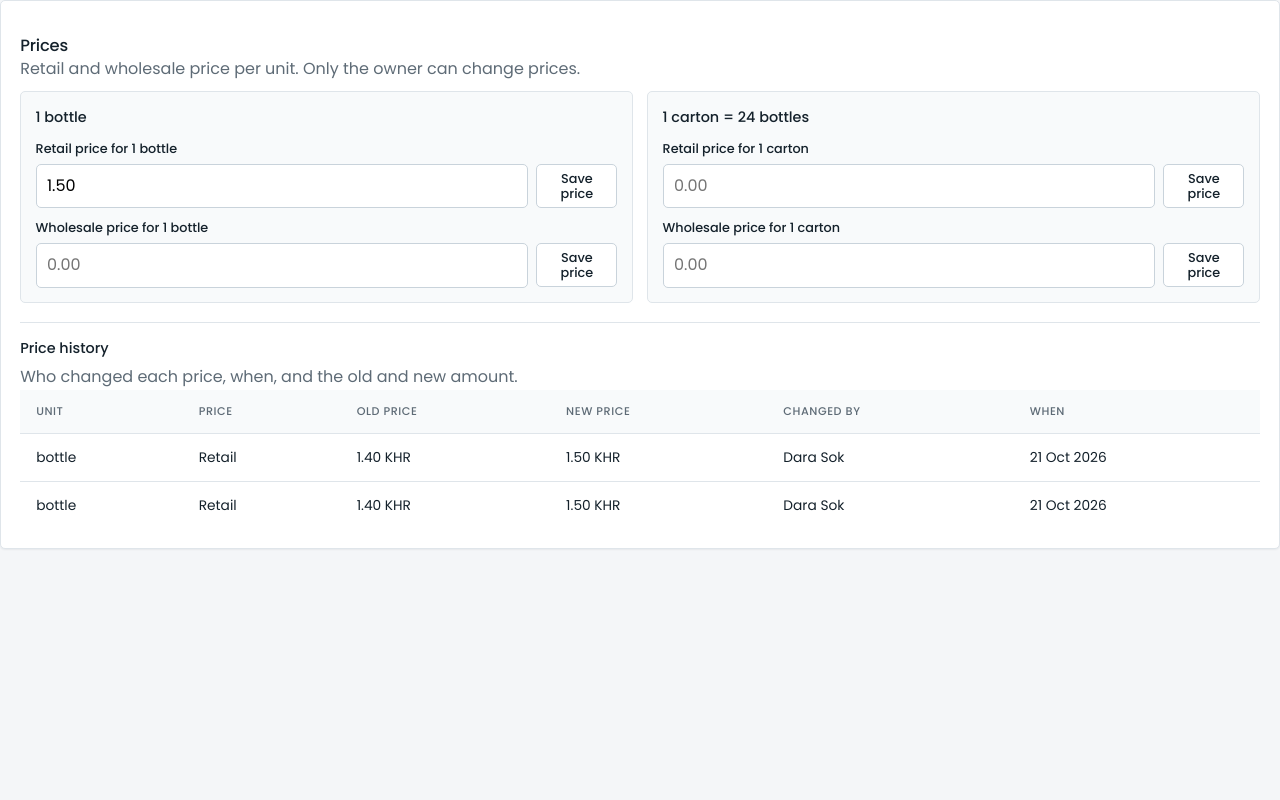
Test: PriceEditor › rejects an amount with more than two decimals
Replace the text in the field labelled "Retail price for 1 bottle" with "1.555": (282, 186) [36,164,528,208]
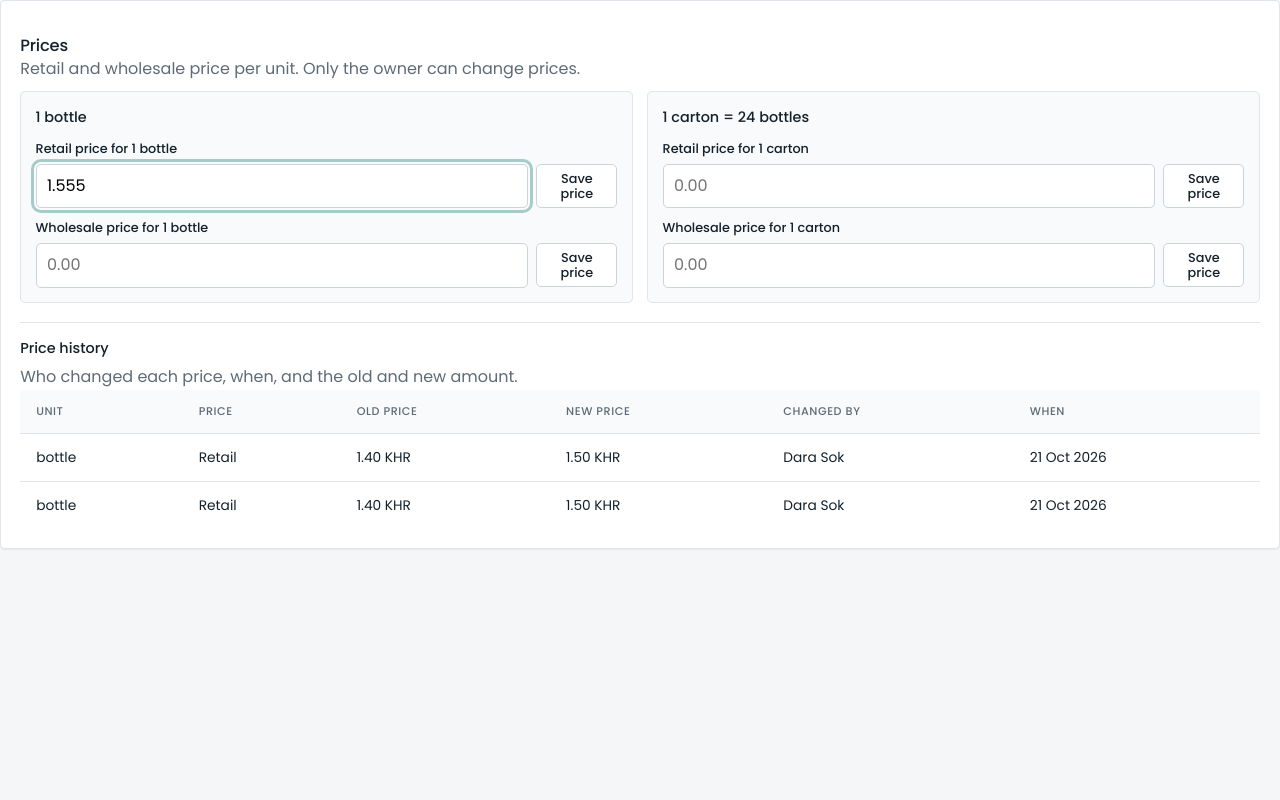
Click the 1st button "Save price": (577, 186) [536,164,618,208]
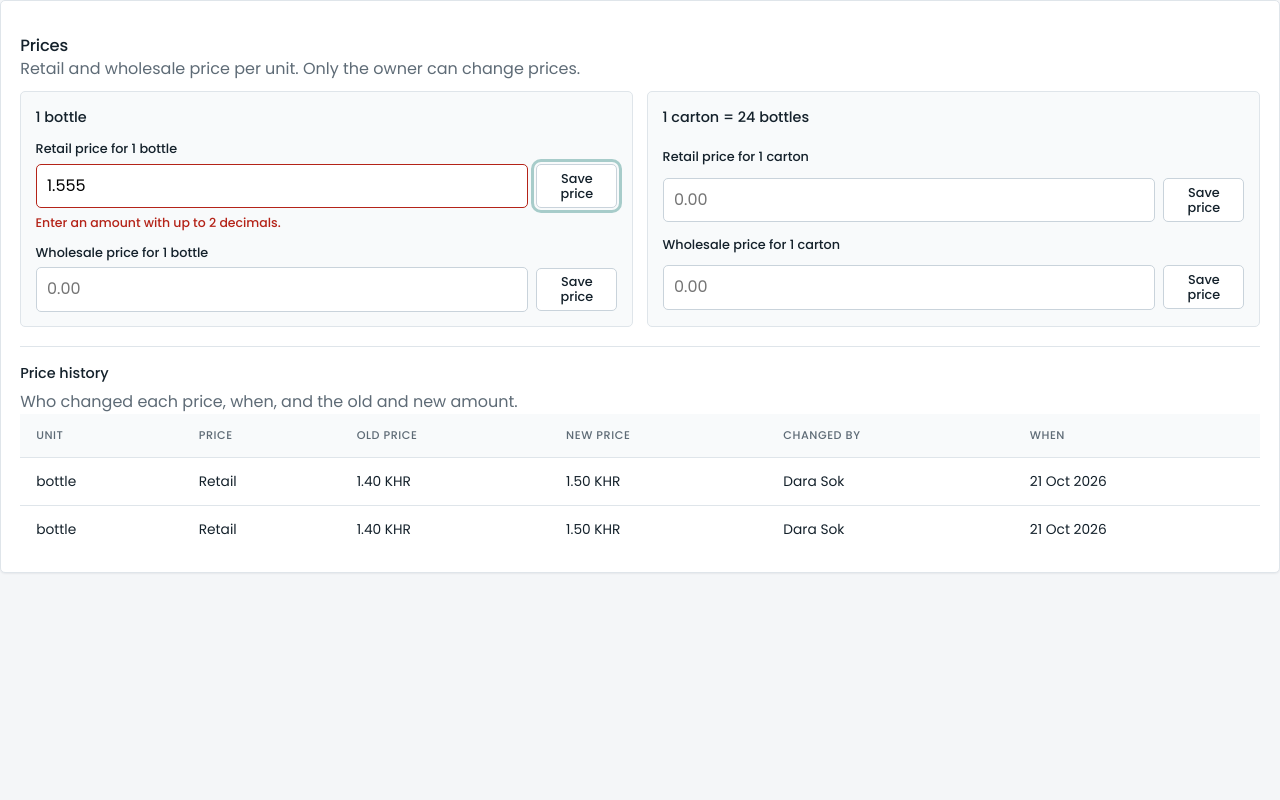
Expected: the text "Enter an amount with up to 2 decimals." is shown, [36,214,281,231]
